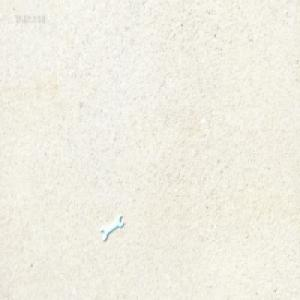Wrench: (101, 213, 123, 241)
